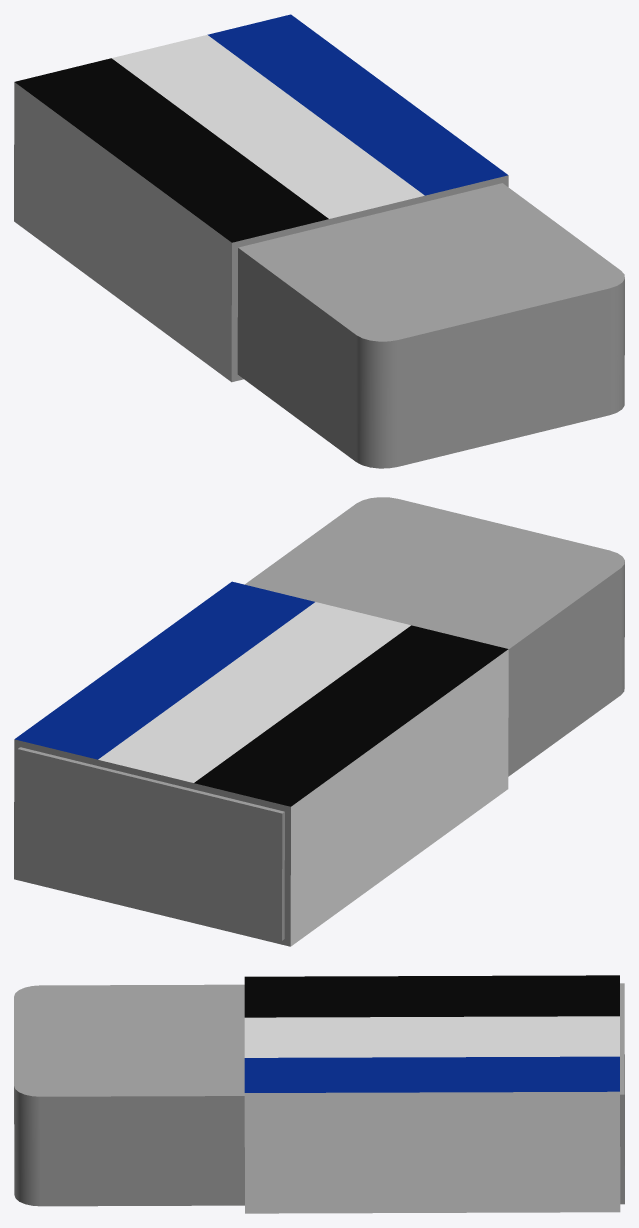
The model's file is kesigomuokiagaru.fbx.
3 renders of one model, top to bottom at view 1: azimuth 30°, elevation 25°; view 2: azimuth 150°, elevation 25°; view 3: azimuth 270°, elevation 25°, orthographic. The views are drawn at different scales.
Parts seen in each view (by area): view 1: pCube3; view 2: pCube3; view 3: pCube3.
Boxes of the visible parts, x1=… form: pCube3: x1=14, y1=14, x2=624, y2=468; pCube3: x1=14, y1=497, x2=624, y2=946; pCube3: x1=14, y1=975, x2=624, y2=1213.
Bounding box in the file's own units: 52.58 × 26.99 × 117.
